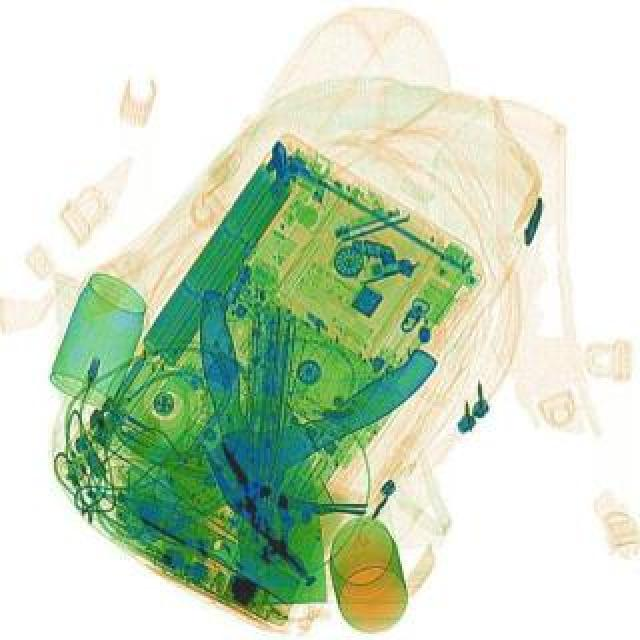knife: (130, 336, 448, 544), (188, 282, 330, 608)
